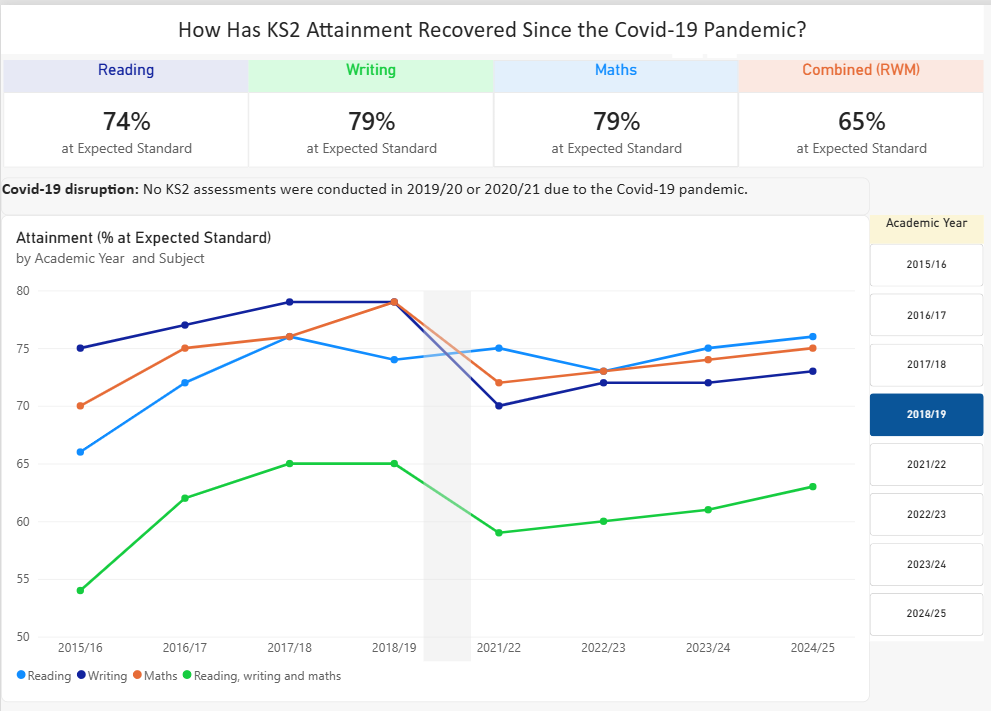

What the dashboard file says about the page in this screenshot:
{"tool":"powerbi","page":{"name":"National Overview","canvas":[1920,1080],"ordinal":0},"visuals":[{"type":"cardVisual","title":"Reading","fields":{"Data":["ks2_regional_and_local_authority_2016_to_2026_provisional.Expected Standard Display"]},"box":[3.4,62.6,280,122.9],"z":0},{"type":"lineChart","fields":{"Category":["ks2_regional_and_local_authority_2016_to_2026_provisional.Academic Year "],"Series":["ks2_regional_and_local_authority_2016_to_2026_provisional.Subject"],"Y":["Avg(ks2_regional_and_local_authority_2016_to_2026_provisional.Expected Standard %)"]},"box":[0,240,992.9,557.1],"z":1000},{"type":"advancedSlicerVisual","fields":{"Values":["ks2_regional_and_local_authority_2016_to_2026_provisional.Academic Year "]},"box":[992.9,240,130,487.1],"z":2000},{"type":"cardVisual","title":"Writing","fields":{"Data":["ks2_regional_and_local_authority_2016_to_2026_provisional.Expected Standard Display"]},"box":[283.4,62.6,280,122.9],"z":3000},{"type":"cardVisual","title":"Maths ","fields":{"Data":["ks2_regional_and_local_authority_2016_to_2026_provisional.Expected Standard Display"]},"box":[563.4,62.6,280,122.9],"z":4000},{"type":"cardVisual","title":"Combined (RWM)","fields":{"Data":["ks2_regional_and_local_authority_2016_to_2026_provisional.Expected Standard Display"]},"box":[843.4,62.6,280,122.9],"z":5000},{"type":"textbox","box":[0,0,1122.9,55.7],"z":6000},{"type":"textbox","box":[0,197.1,992.9,42.9],"z":7000},{"type":"shape","box":[482.9,327.1,54.3,422.9],"z":8000}]}

Visuals, with their boxes on the page's 1920x1080 design canvas (x1, y1, x2, y2). These are canvas units, not pixel positions in the 991x711 screenshot, which may show the page scaled, cropped or inside an application window:
"Reading" cardVisual: 3, 63, 283, 186
lineChart - ks2_regional_and_local_authority_2016_to_2026_provisional.Academic Year  x ks2_regional_and_local_authority_2016_to_2026_provisional.Subject: 0, 240, 993, 797
advancedSlicerVisual - ks2_regional_and_local_authority_2016_to_2026_provisional.Academic Year : 993, 240, 1123, 727
"Writing" cardVisual: 283, 63, 563, 186
"Maths " cardVisual: 563, 63, 843, 186
"Combined (RWM)" cardVisual: 843, 63, 1123, 186
textbox: 0, 0, 1123, 56
textbox: 0, 197, 993, 240
shape: 483, 327, 537, 750
